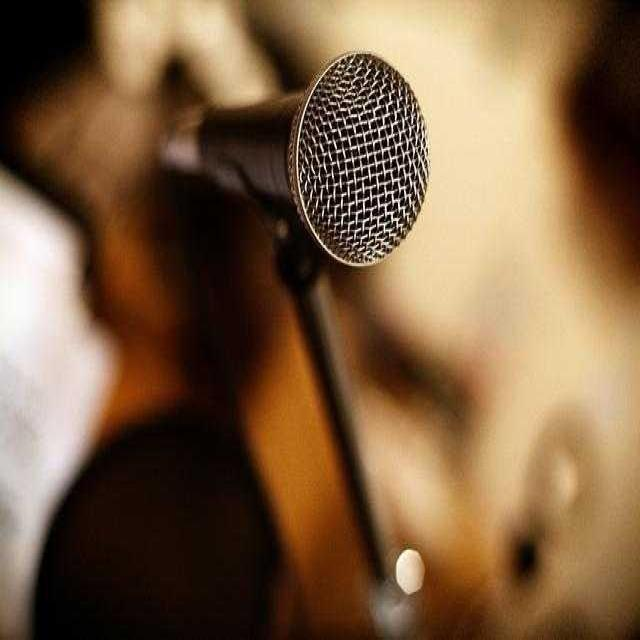microphone: (170, 46, 432, 274)
